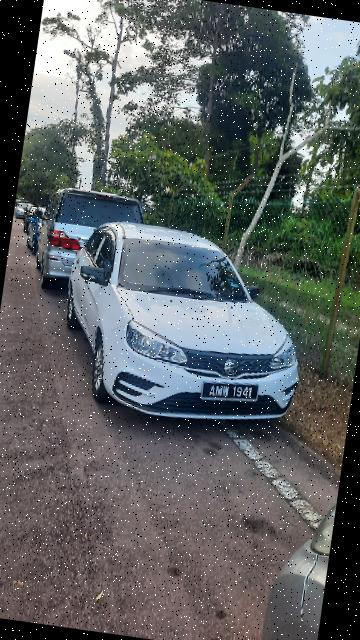License_Plate: (194, 377, 264, 410)
car: (50, 213, 320, 441)
